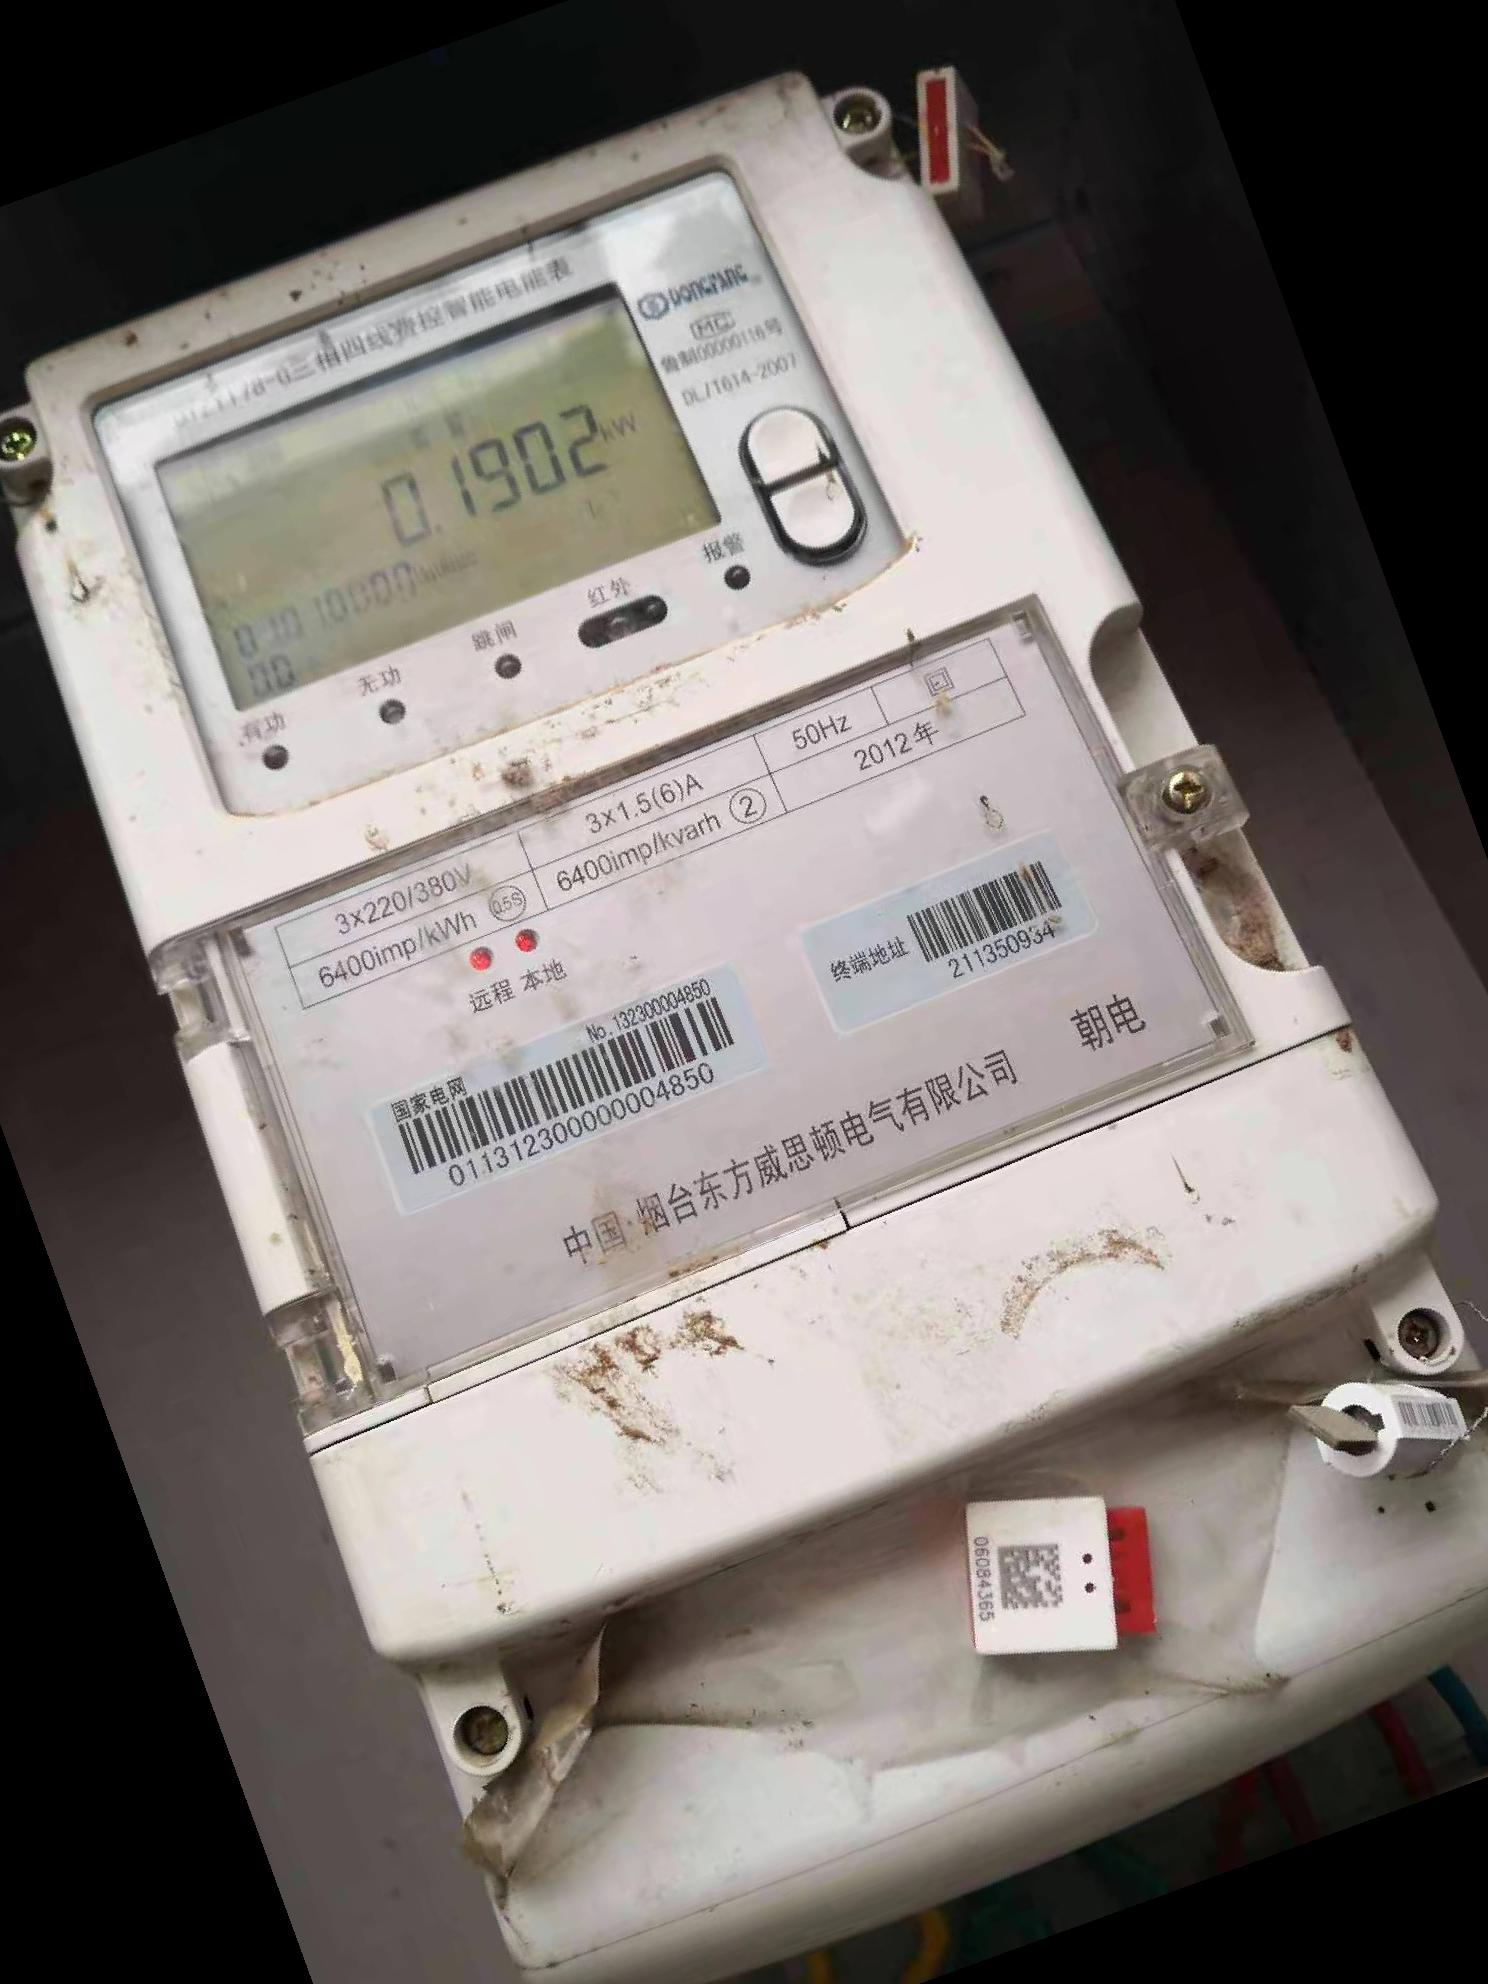digital: (8, 73, 1447, 1650)
